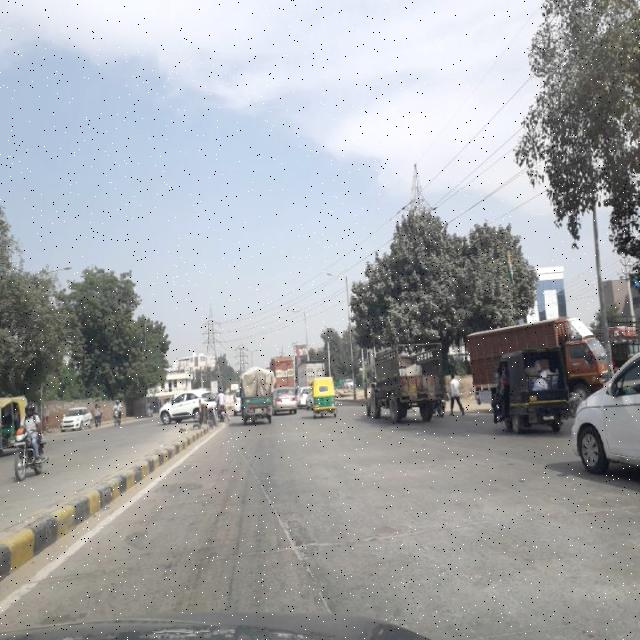D01: (282, 522, 332, 612), (233, 428, 282, 516)
D11: (445, 500, 633, 540), (273, 519, 442, 560), (102, 537, 270, 578)
